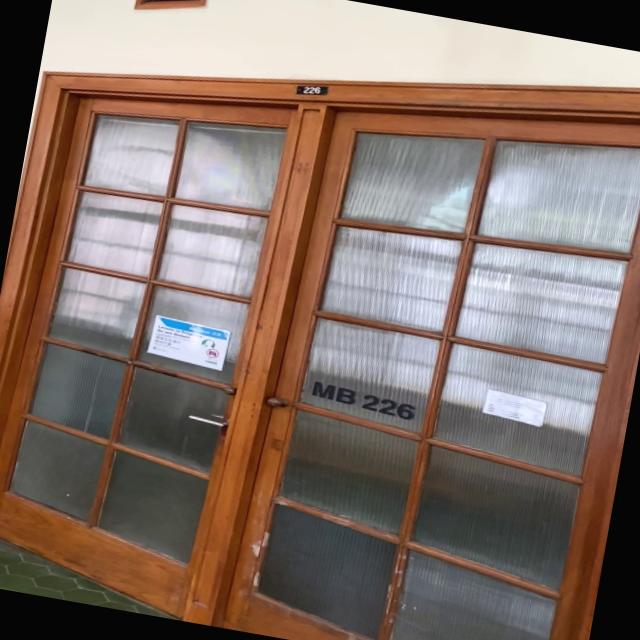room226: (294, 79, 331, 100)
room226Window: (308, 376, 418, 423)
